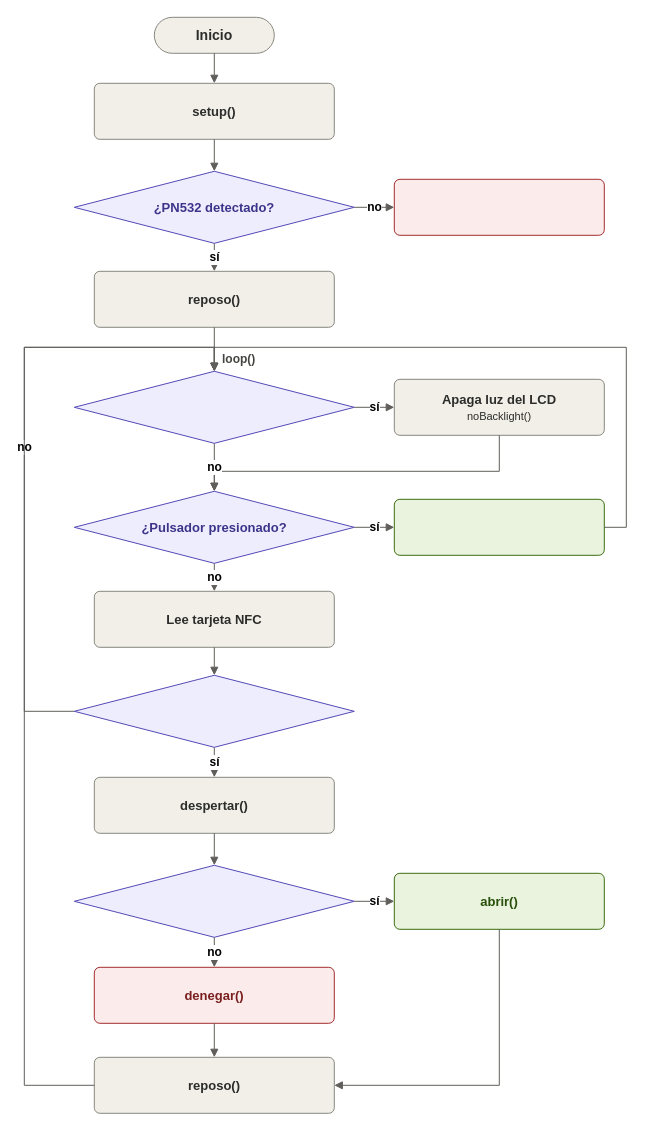
This 652x1131 diagram has some shape labels left out. Here are the shapes that lost their labels. From the top down, the centre of each, then its label:
point (498, 206): Error en pantalla
point (213, 406): ¿10 s sin actividad?
point (498, 526): despertar() + abrir()
point (213, 710): ¿Tarjeta detectada?
point (213, 900): ¿UID autorizado?
